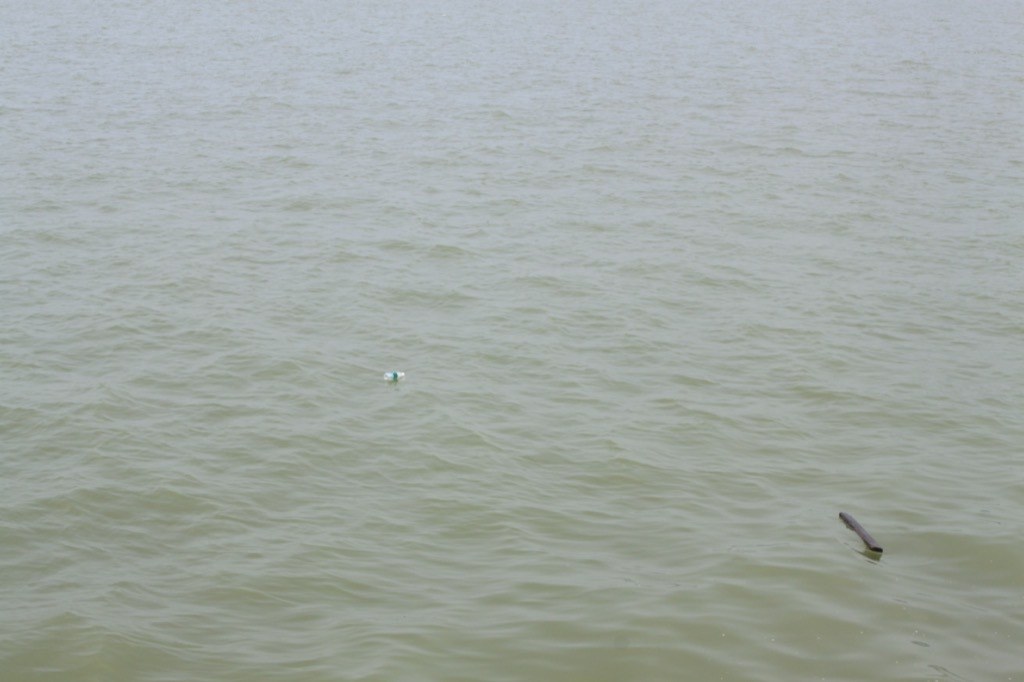organic: (830, 505, 891, 570)
plastic: (377, 364, 412, 402)
